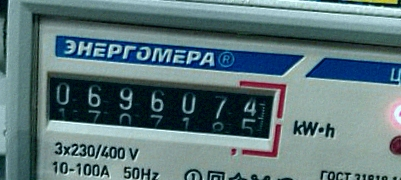0: (53, 80, 74, 107), (179, 89, 199, 117)
4: (241, 94, 259, 117)
5: (239, 117, 257, 138)
6: (147, 86, 168, 115), (84, 82, 105, 109)
7: (211, 93, 229, 120)
9: (116, 84, 135, 111)
screen: (31, 58, 291, 162)
